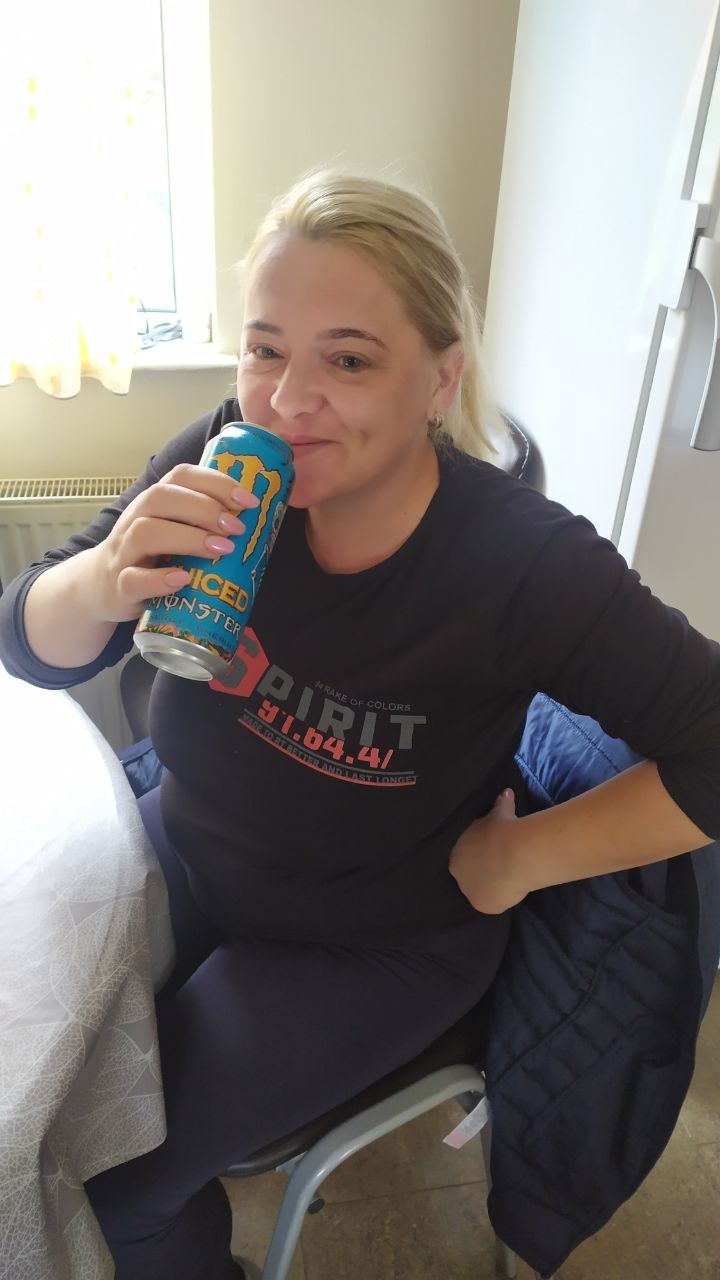Can: (137, 424, 297, 680)
